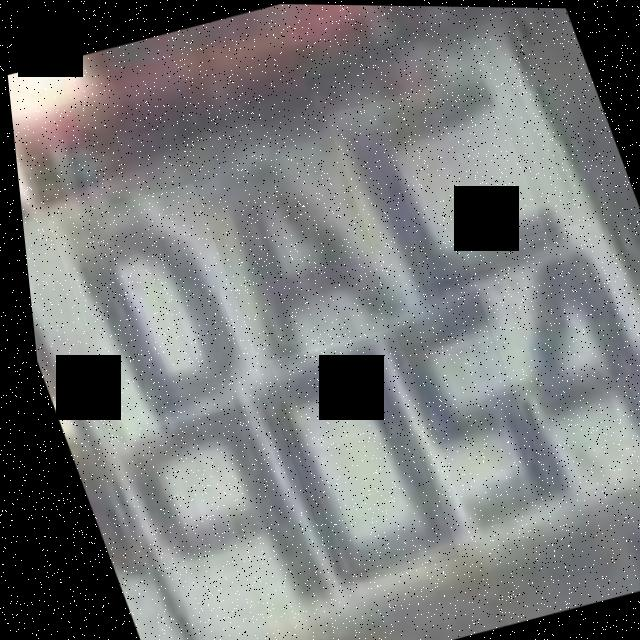4: (454, 215, 640, 498)
7: (258, 325, 465, 574)
A: (174, 127, 426, 389)
J: (319, 69, 551, 294), (247, 333, 450, 588)
O: (39, 181, 266, 436)
P: (101, 377, 306, 640)
